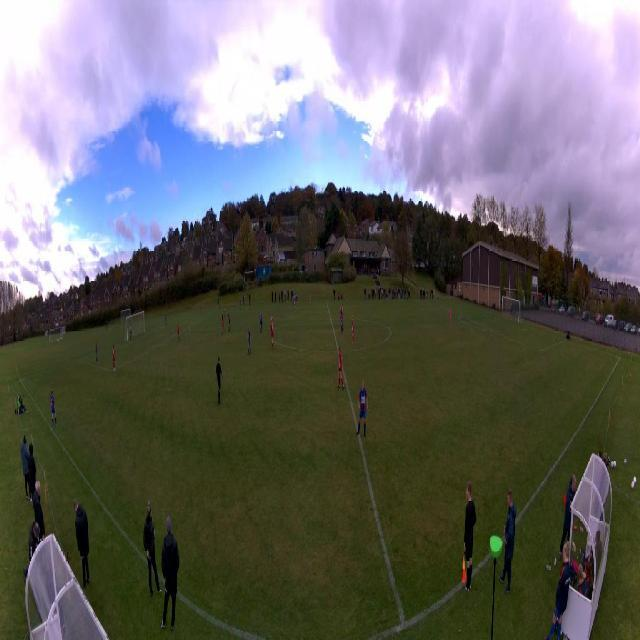player: (356, 379, 369, 438), (216, 355, 224, 406), (336, 347, 345, 389), (50, 391, 59, 428), (269, 321, 275, 348), (246, 327, 251, 356), (339, 306, 343, 333), (112, 345, 116, 370), (259, 311, 263, 333), (351, 317, 354, 344), (221, 315, 225, 335), (341, 303, 344, 328), (449, 308, 452, 328), (177, 322, 180, 341), (294, 297, 297, 312), (271, 312, 274, 327), (228, 310, 230, 332), (95, 341, 97, 362), (130, 325, 132, 341), (224, 304, 226, 319), (165, 312, 167, 327), (239, 298, 241, 312)
